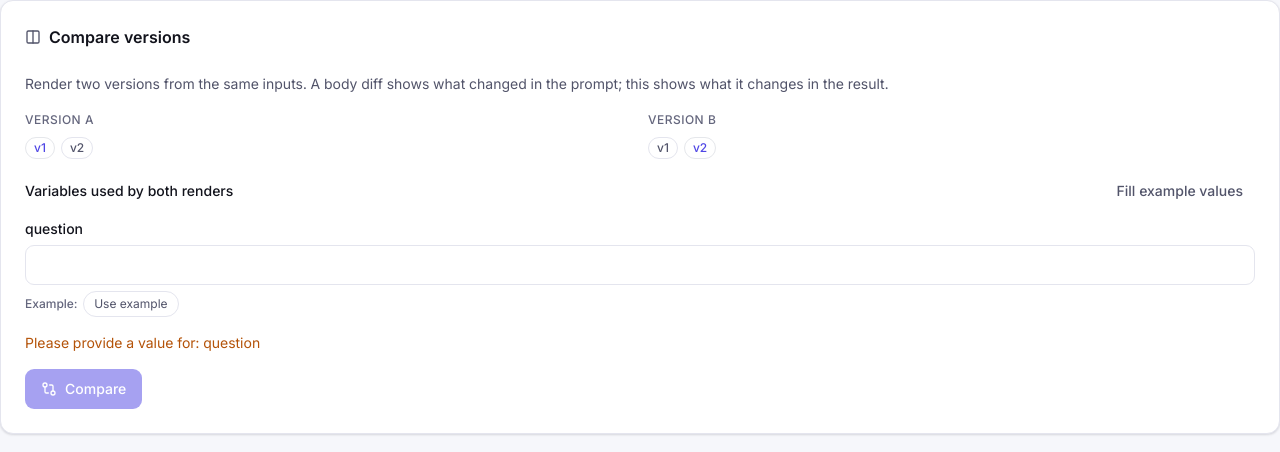
Test case: PromptComparison › fills the variables it has suggestions for
The width and height of the screenshot is (1280, 452).
Click the button with test id "compare-fill-example".
click(1180, 191)  # box x1=1105 y1=175 x2=1255 y2=207
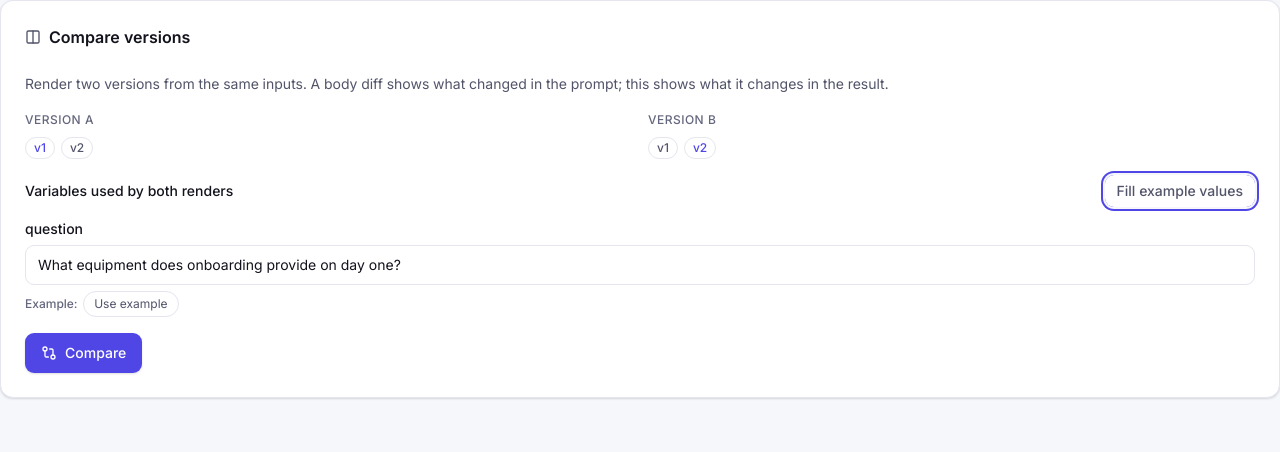
Result: the field with test id "compare-var-question" is not empty at x1=25 y1=245 x2=1255 y2=285
Result: the button with test id "compare-submit" is enabled at x1=25 y1=333 x2=142 y2=373
